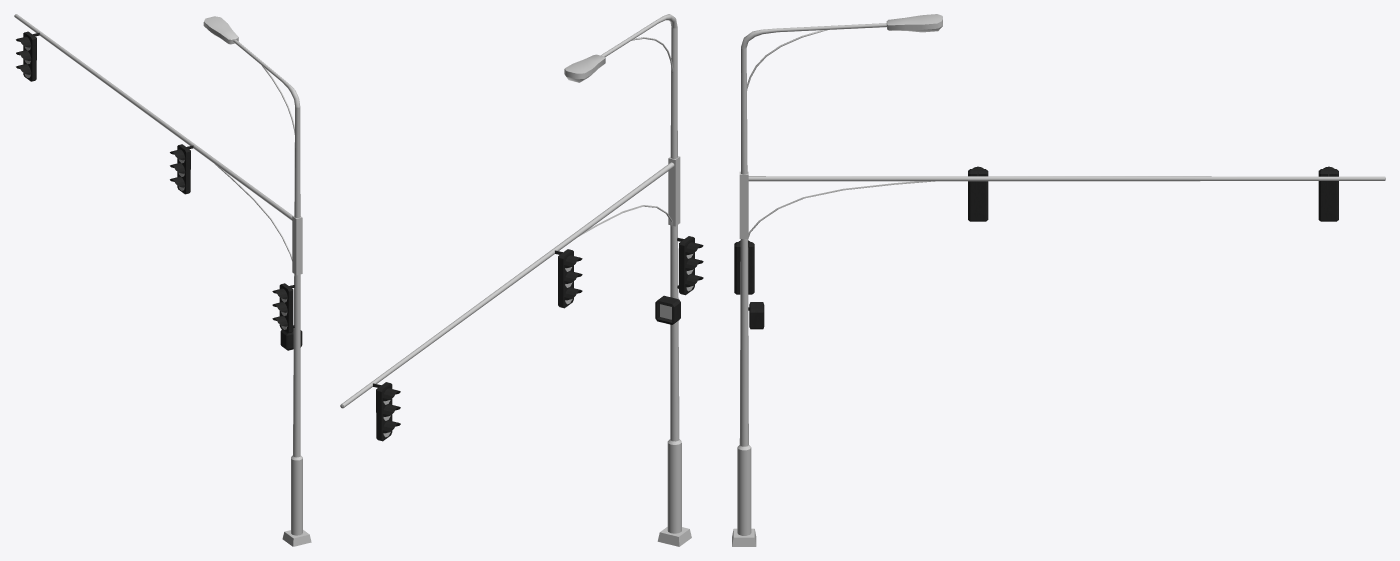
The model's file is D_tlight_3x_l.FBX.
3 views of the same model, side by side, from view 1: azimuth 30°, elevation 25°; view 2: azimuth 150°, elevation 25°; view 3: azimuth 270°, elevation 25° (orthographic). The views are drawn at different scales.
Parts seen in each view (by area): view 1: Object146; view 2: Object146; view 3: Object146.
Boxes of the visible parts, <box> form: Object146: <box>14,14,311,546</box>; Object146: <box>340,14,703,546</box>; Object146: <box>732,14,1385,546</box>.
Bounding box in the file's own units: 1.74 × 27.94 × 24.71.
